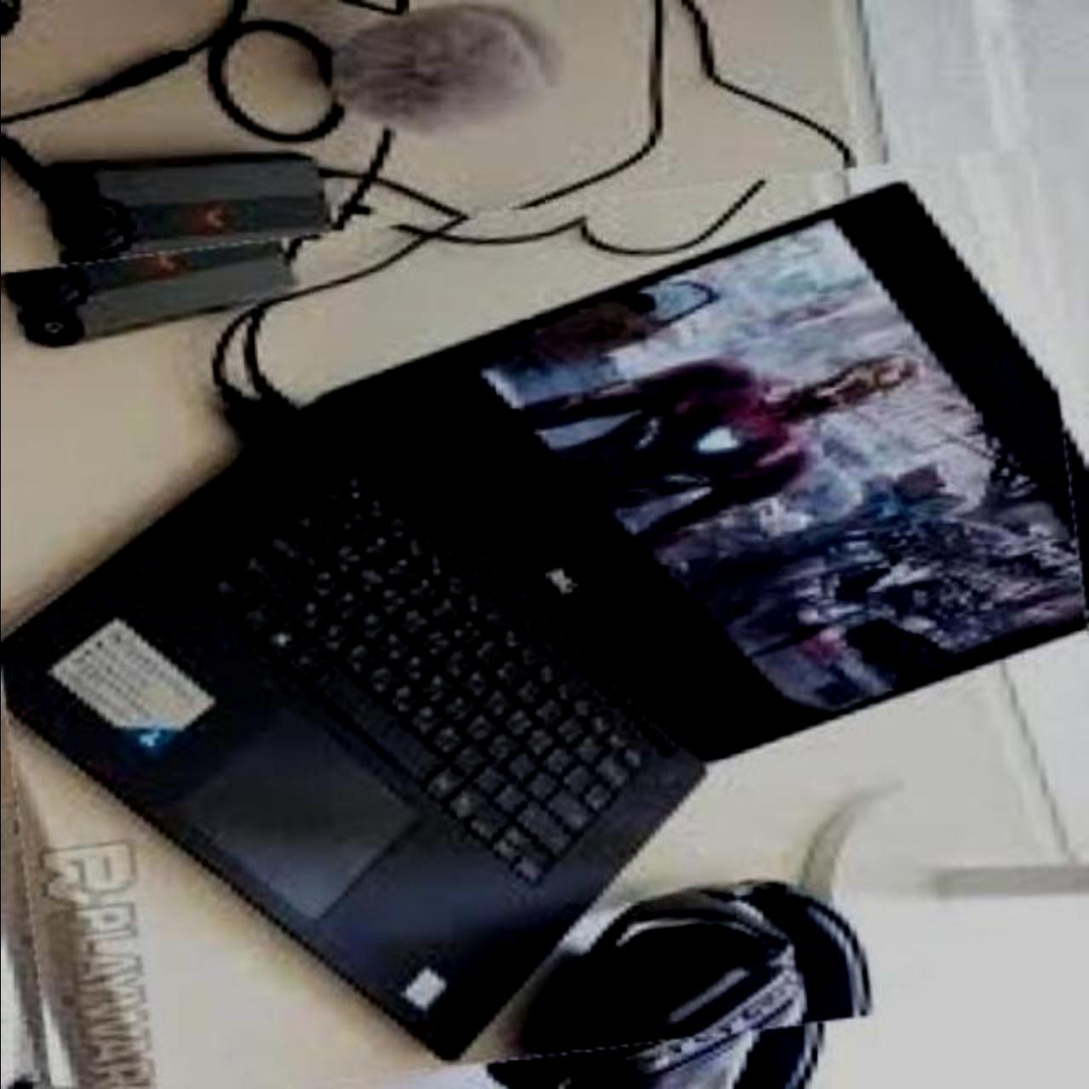laptop: (0, 179, 1089, 1084)
